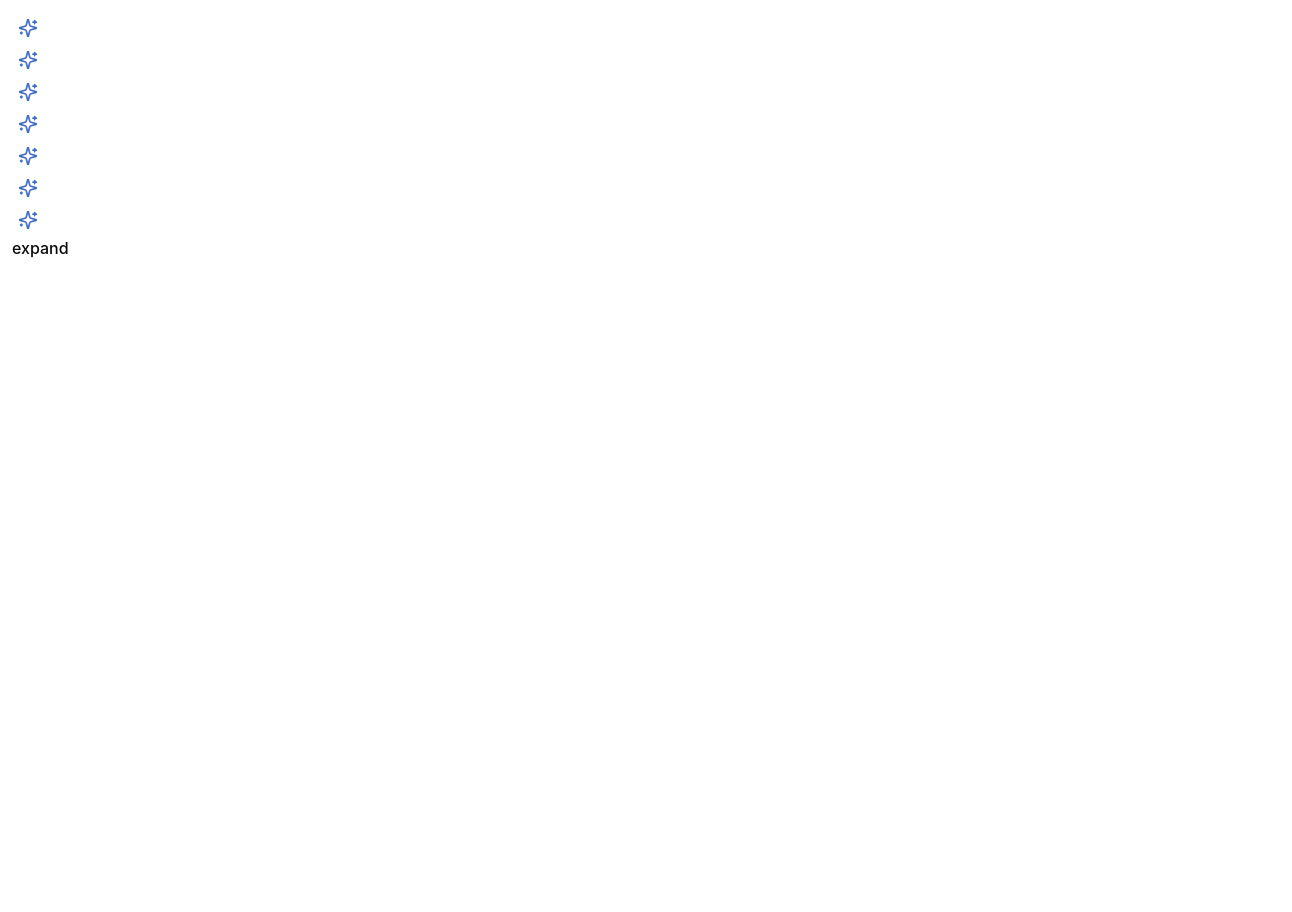
AiAssistantHost › renders the setup checklist body for the manage-agents scope
Click the button named "open-list".
click(28, 60)  # box [12,44,44,76]
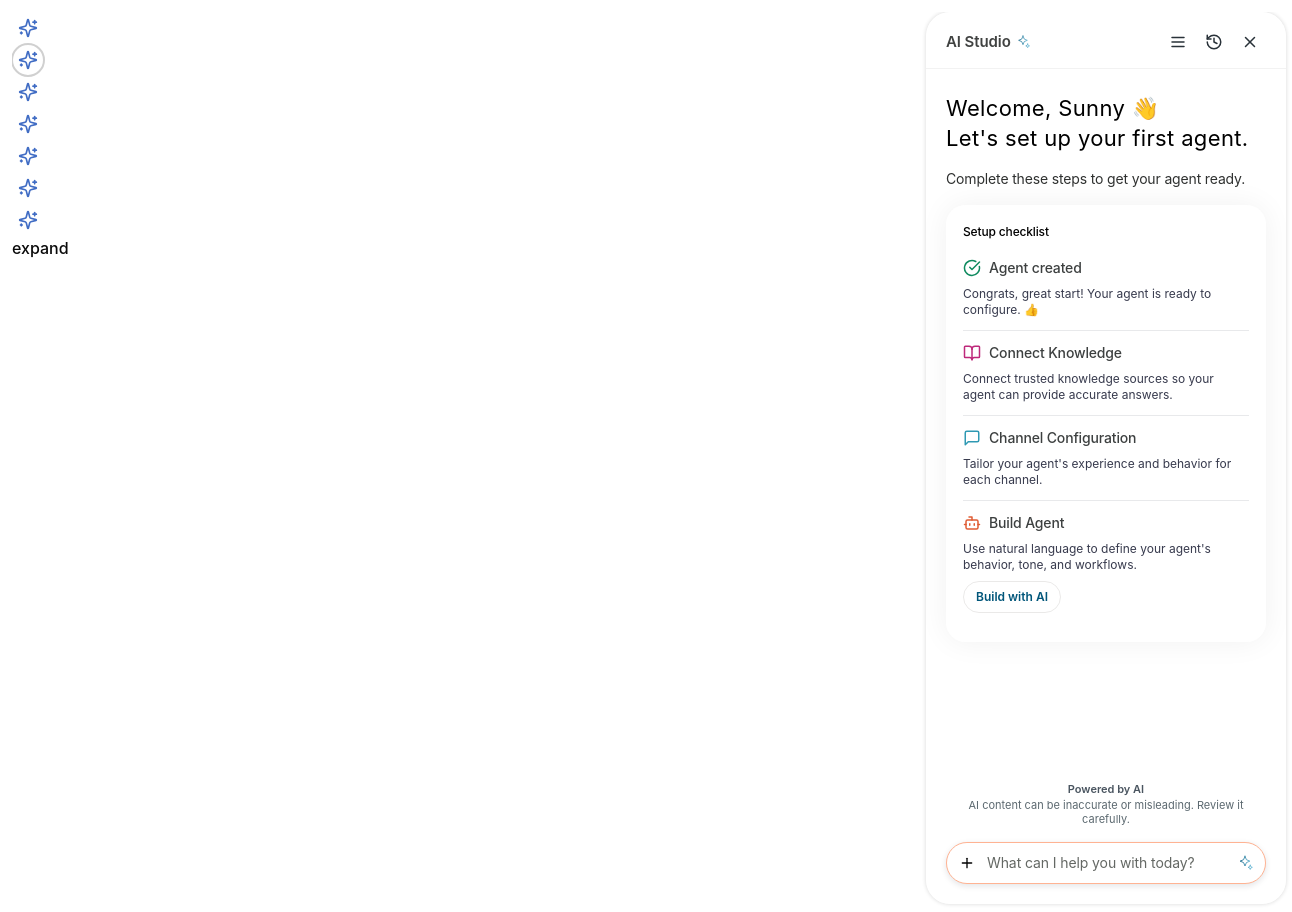
Check: the text "Setup checklist" is shown, box [963,224,1049,239]
